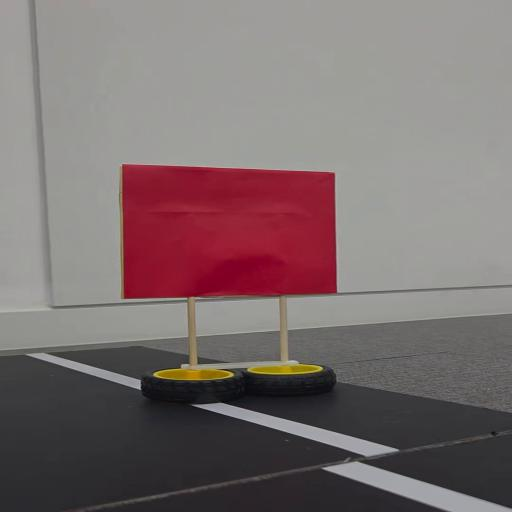Sign_A: (103, 155, 361, 412)
